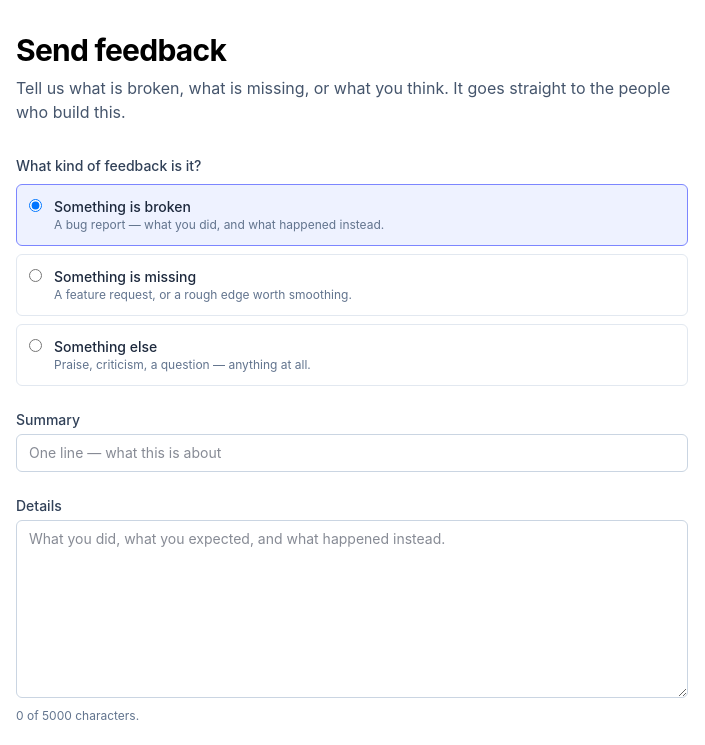
Test case: FeedbackPage › shows what the server said when the send fails
The image size is (705, 745).
Type "Slides stop advancing" into the field labelled "Summary". click: [352, 453]
box: [16,434,688,472]
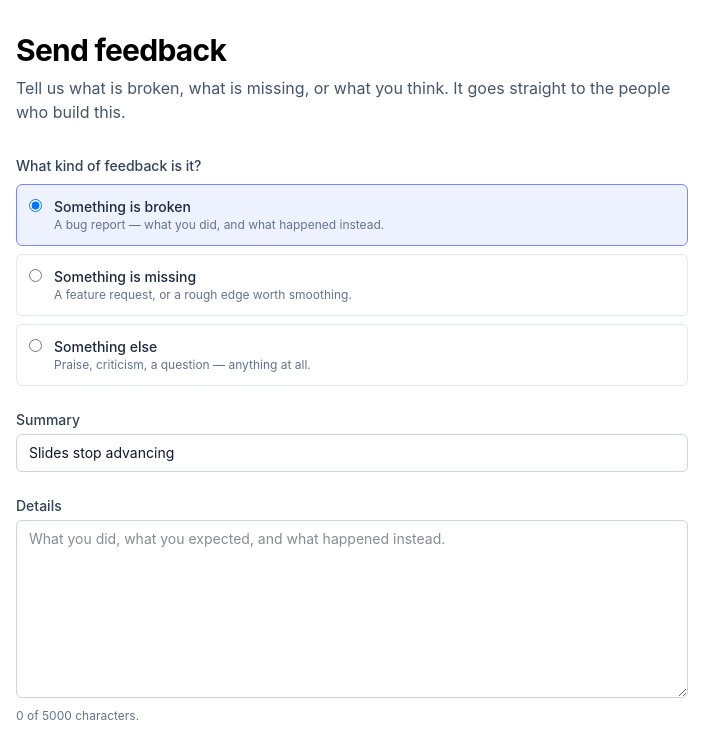
Type "It froze." into the text box labelled "Details". click: [352, 609]
box: [16,520,688,698]
(page scrolled)
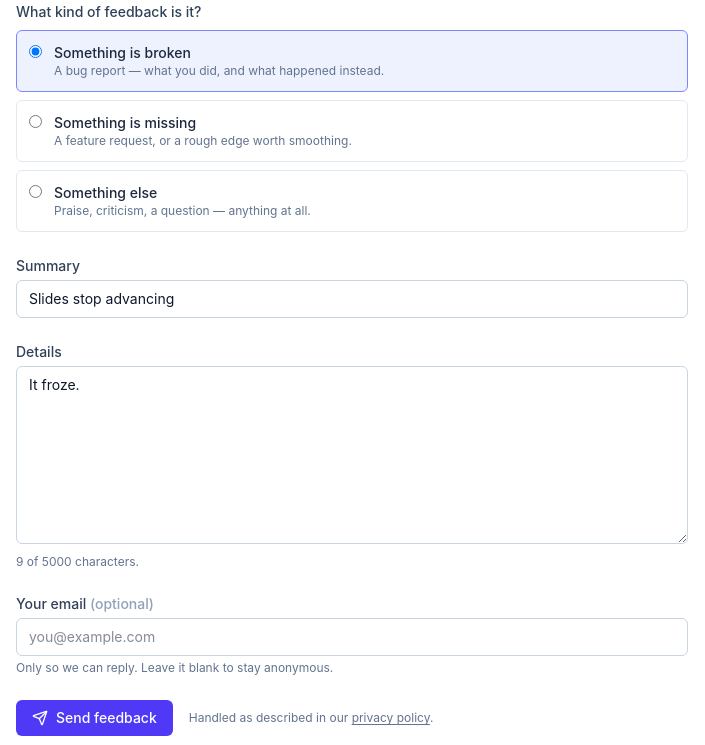
Click the button "Send feedback". click: [94, 718]
box: [16,700,173,736]
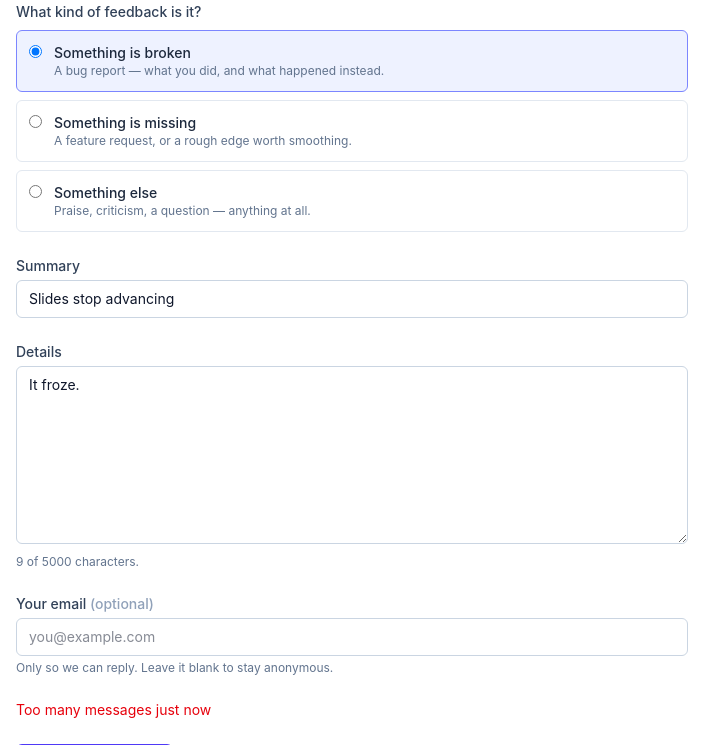
Expected: the message reads "Too many messages just now", [16,701,211,718]
